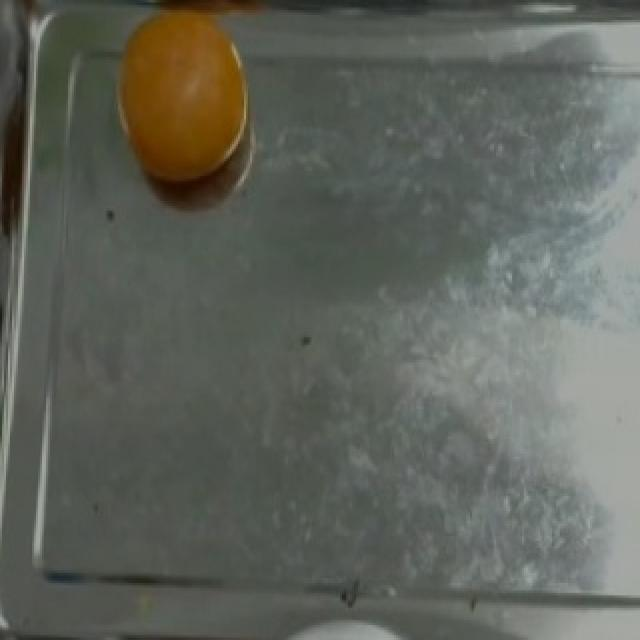Fruit: (106, 0, 260, 201)
